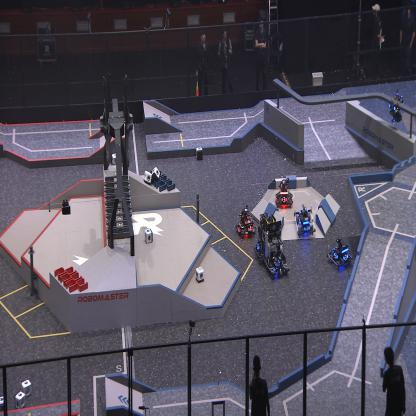car: (263, 219, 289, 280), (254, 211, 274, 263), (328, 237, 352, 270), (293, 204, 316, 237), (235, 206, 255, 240), (275, 178, 293, 210)
